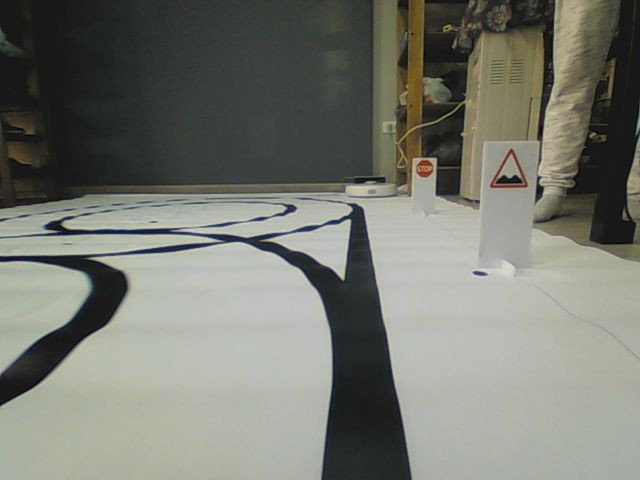Stop: (414, 160, 435, 179)
